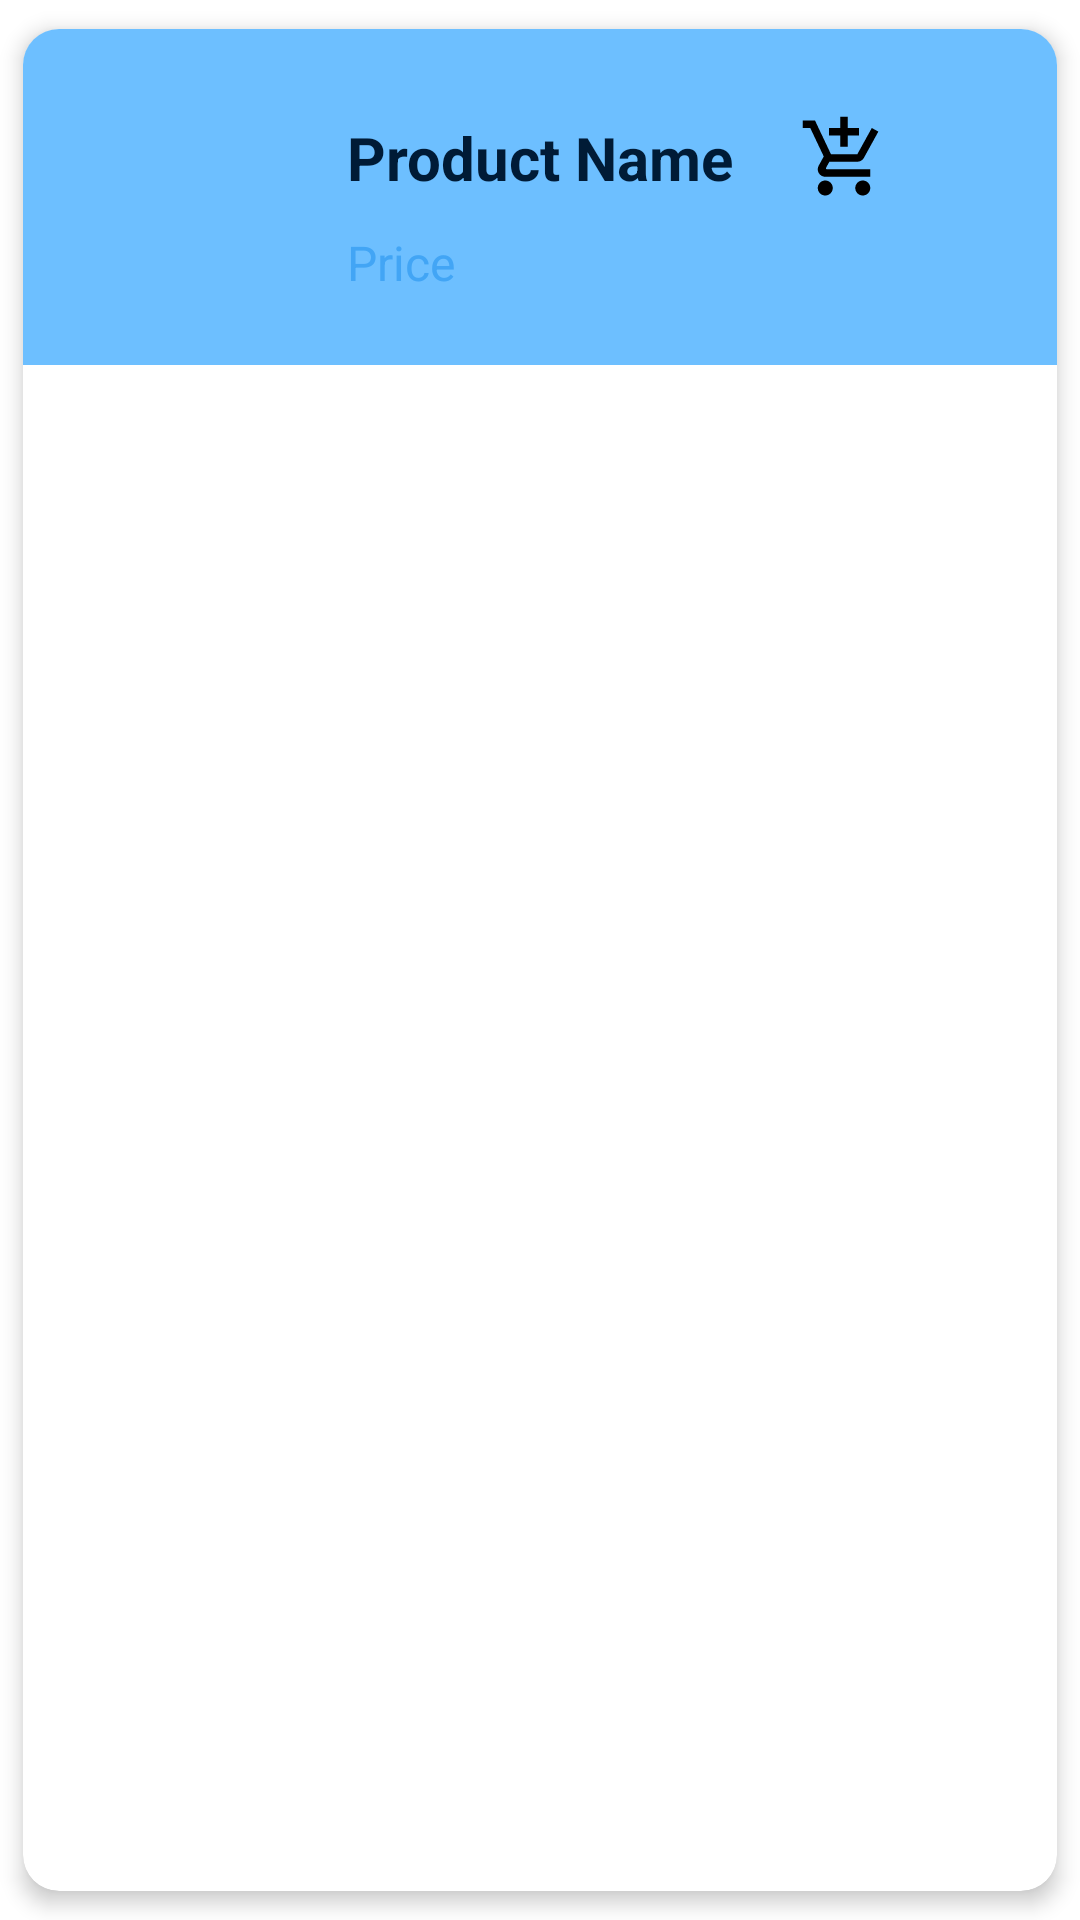

Icons on this 1080 x 1920 Android screen, each with its box as (left=x1, top=y1, right=x2, bottom=y2):
cart: (left=802, top=116, right=879, bottom=196)
